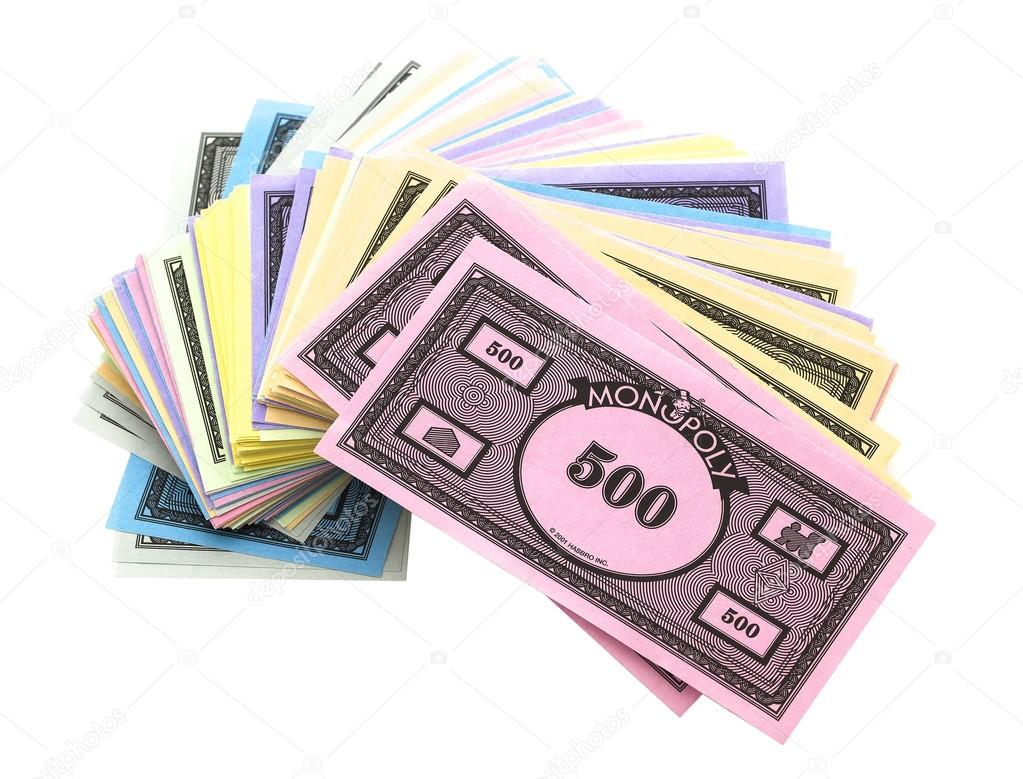$500 dollars: (398, 289, 850, 709)
